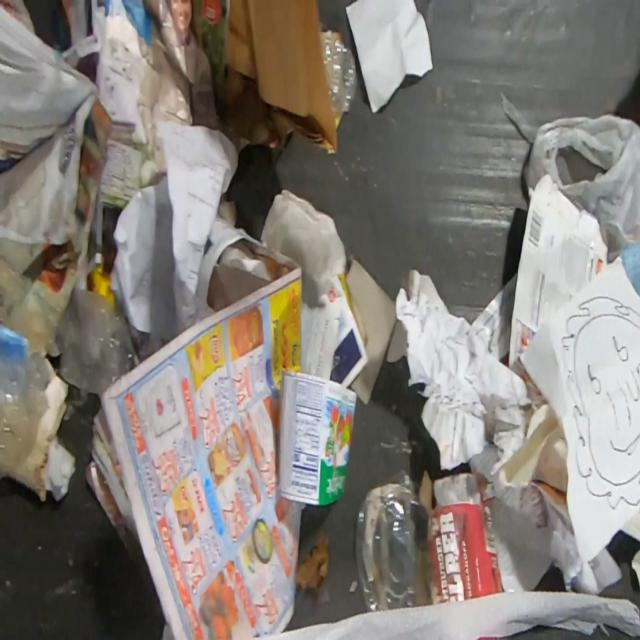cardboard: (508, 174, 608, 384), (418, 468, 504, 606), (277, 367, 359, 507)
rigid_plastic: (354, 466, 427, 615)
soft_plastic: (498, 90, 640, 251), (52, 284, 138, 403), (0, 340, 55, 478), (322, 33, 358, 114)
